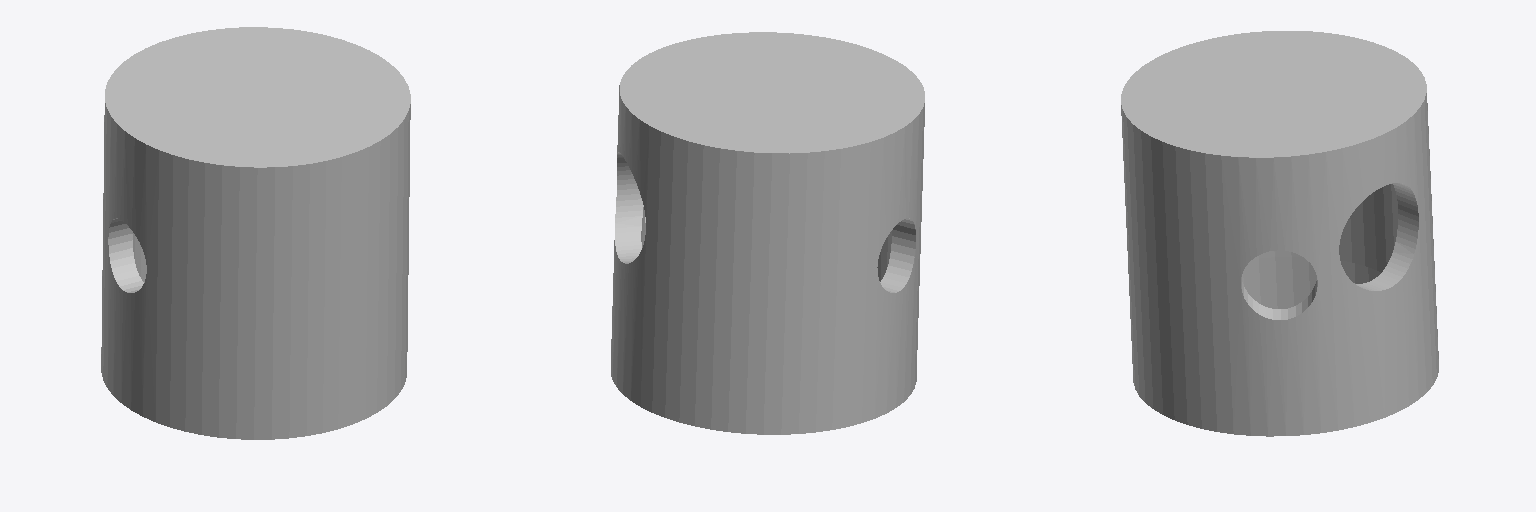
The model's file is Piston.obj.
The picture shows the model from 3 angles: view 1: azimuth 30°, elevation 25°; view 2: azimuth 150°, elevation 25°; view 3: azimuth 270°, elevation 25°; orthographic projection.
Visible parts, largest first — view 1: Piston.ipt Mesh Mesh Mesh; view 2: Piston.ipt Mesh Mesh Mesh; view 3: Piston.ipt Mesh Mesh Mesh.
Boxes of the visible parts, x1,y1,x2,y2 form: Piston.ipt Mesh Mesh Mesh: [101, 27, 410, 439]; Piston.ipt Mesh Mesh Mesh: [611, 32, 924, 434]; Piston.ipt Mesh Mesh Mesh: [1121, 31, 1438, 436].
Bounding box in the file's own units: 13.98 × 16.64 × 14.37.